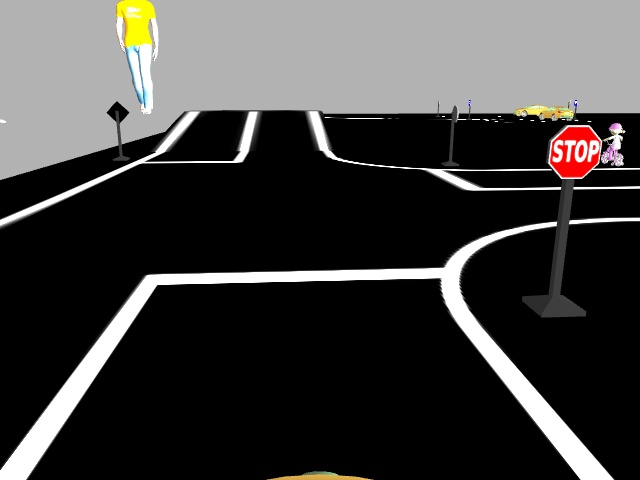Stop: (545, 121, 600, 178)
